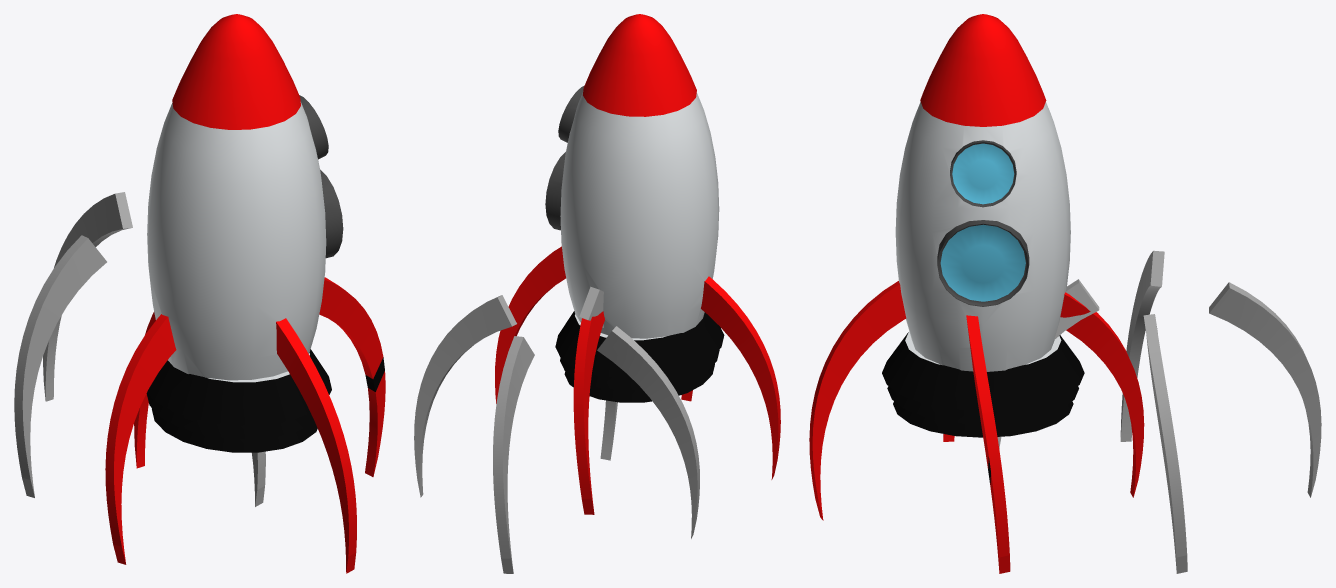
File: Rocket.fbx
The picture shows the model from 3 angles, left to right: view 1: azimuth 30°, elevation 25°; view 2: azimuth 150°, elevation 25°; view 3: azimuth 270°, elevation 25°; orthographic projection. The views are drawn at different scales.
Parts seen in each view (by area): view 1: polySurface1, pCube4, pCube3, pCube1; view 2: polySurface1, pCube4, pCube2, pCube3, pCube1; view 3: polySurface1, pCube3, pCube2, pCube4, pCube1.
Part boxes in pixels (x1,y1,x2,y2): polySurface1: [105, 14, 385, 573]; pCube4: [14, 235, 106, 497]; pCube3: [43, 192, 132, 401]; pCube1: [252, 451, 265, 506]; polySurface1: [495, 14, 780, 514]; pCube4: [597, 326, 699, 538]; pCube2: [414, 295, 516, 497]; pCube3: [493, 336, 534, 573]; pCube1: [579, 286, 617, 460]; polySurface1: [809, 14, 1144, 573]; pCube3: [1209, 282, 1321, 497]; pCube2: [1143, 314, 1187, 573]; pCube4: [1120, 250, 1164, 441]; pCube1: [997, 279, 1099, 449].
Size of the model in its own units: 3.82 by 6.18 by 5.84.
